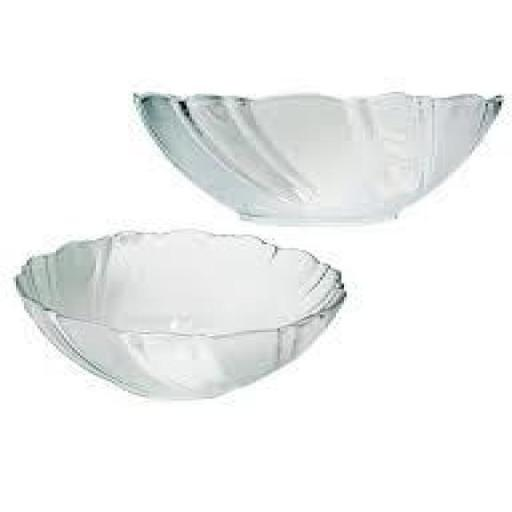glass: (0, 218, 364, 414), (114, 78, 512, 232)
